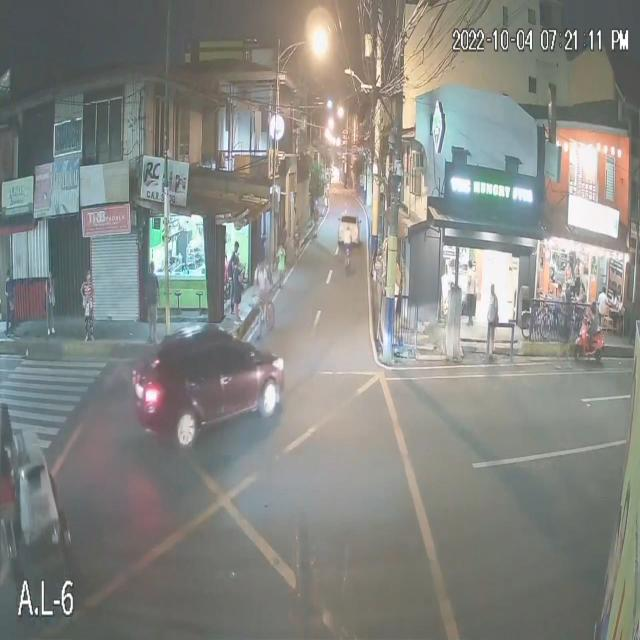Full-Faced: (590, 299, 598, 315)
